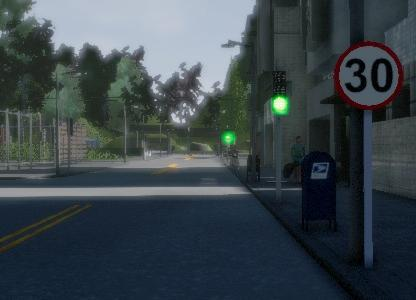Speed_30: (332, 38, 406, 115)
